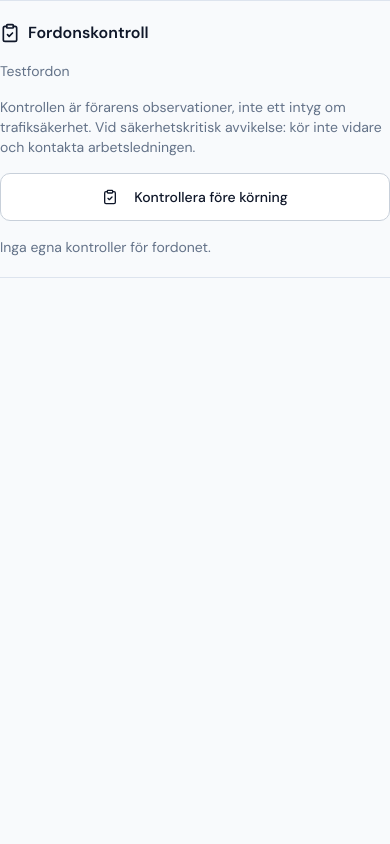
Scenario: keeps the driver observation in history after an admin confirms its resolution
Later steps or results of the test are not shown.
Expected: the text "Inga egna kontroller för fordonet." is shown, x1=0 y1=238 x2=211 y2=256
Click the button "Kontrollera före körning". click: click(195, 197)
box: x1=0 y1=173 x2=389 y2=221
(page scrolled)
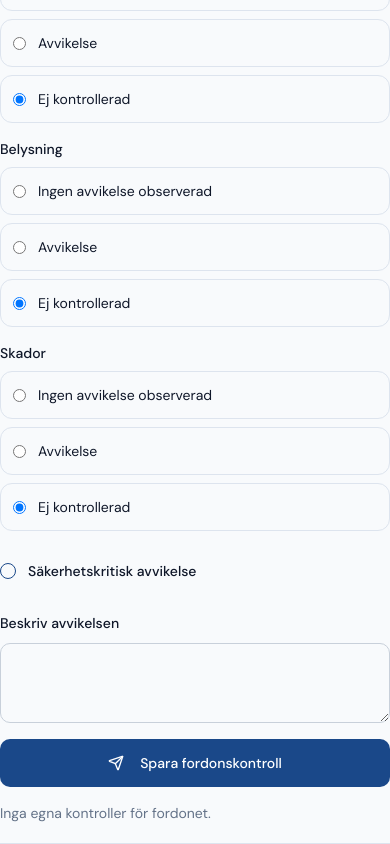
Click the checkbox named "Säkerhetskritisk avvikelse". click: click(8, 571)
box: x1=0 y1=563 x2=16 y2=579
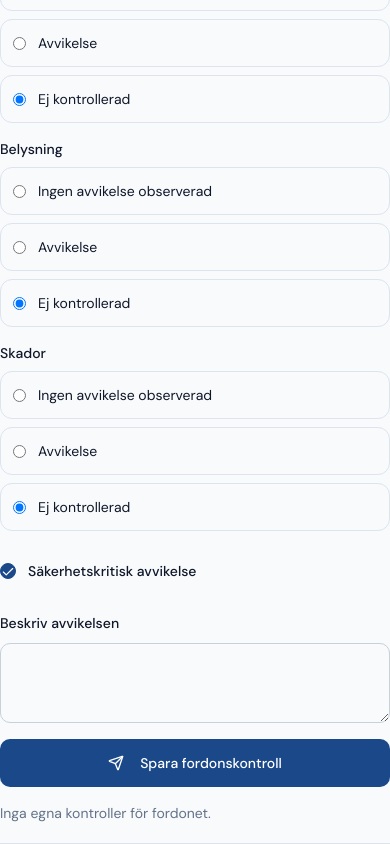
Type "Däck skadat – kontaktar arbetsledningen." into the text box labelled "Beskriv avvikelsen". click: (195, 683)
box: x1=0 y1=643 x2=389 y2=723
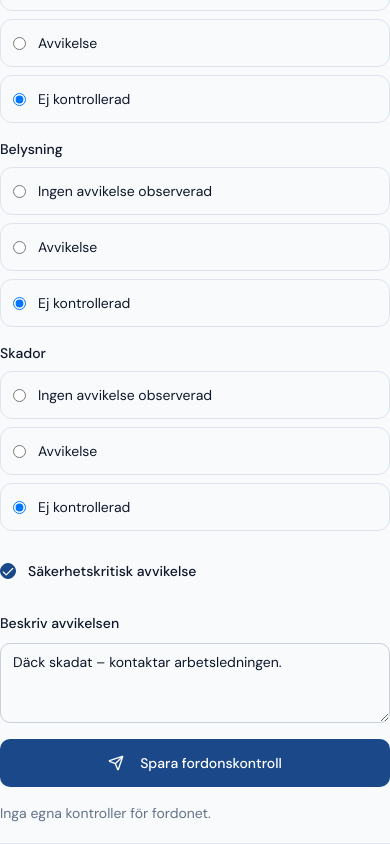
Click the button "Spara fordonskontroll". click: click(195, 763)
box: x1=0 y1=739 x2=389 y2=787
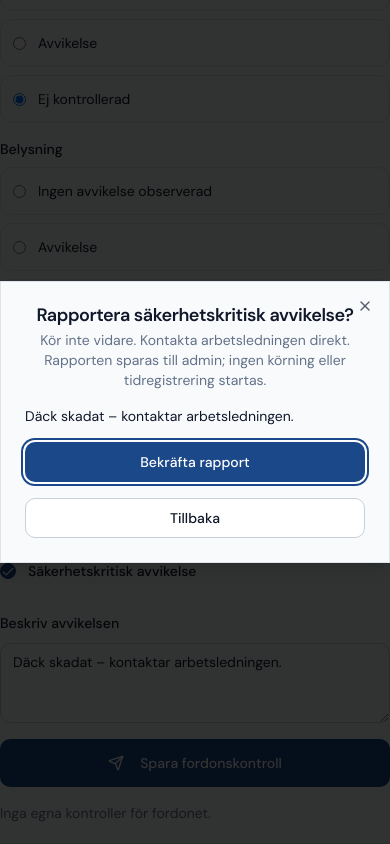
Click the button "Bekräfta rapport". click: click(195, 462)
box: x1=25 y1=442 x2=365 y2=482
(page scrolled)
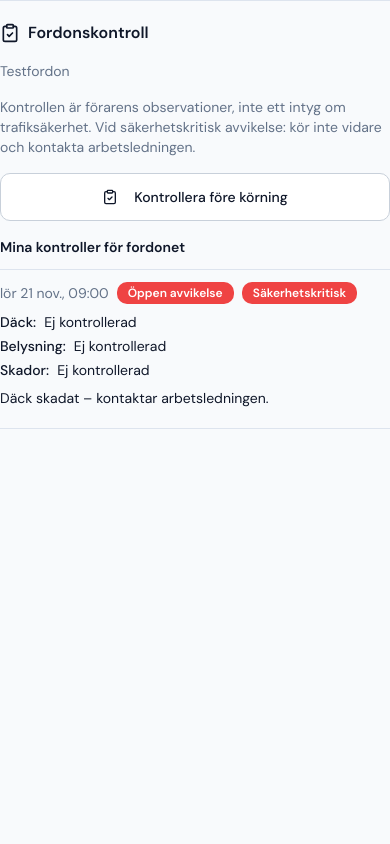
Expected: the dialog is gone
Expected: the text "Öppen avvikelse" is shown, x1=117 y1=282 x2=234 y2=304
